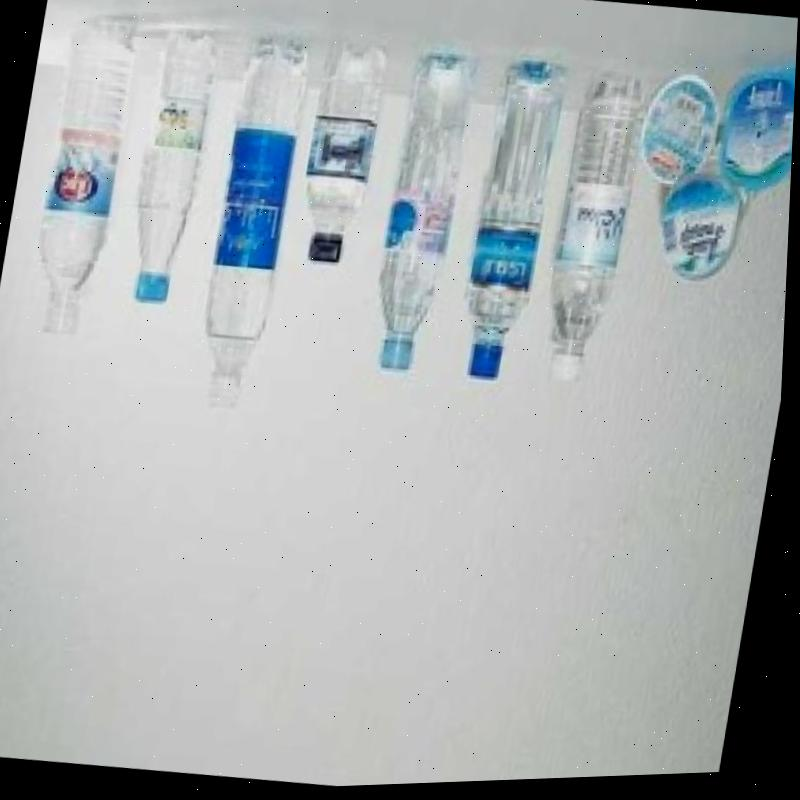botella: (190, 26, 319, 417), (364, 33, 485, 378), (452, 44, 573, 384), (23, 9, 146, 338), (537, 70, 658, 395), (124, 29, 226, 306), (290, 33, 394, 268)
